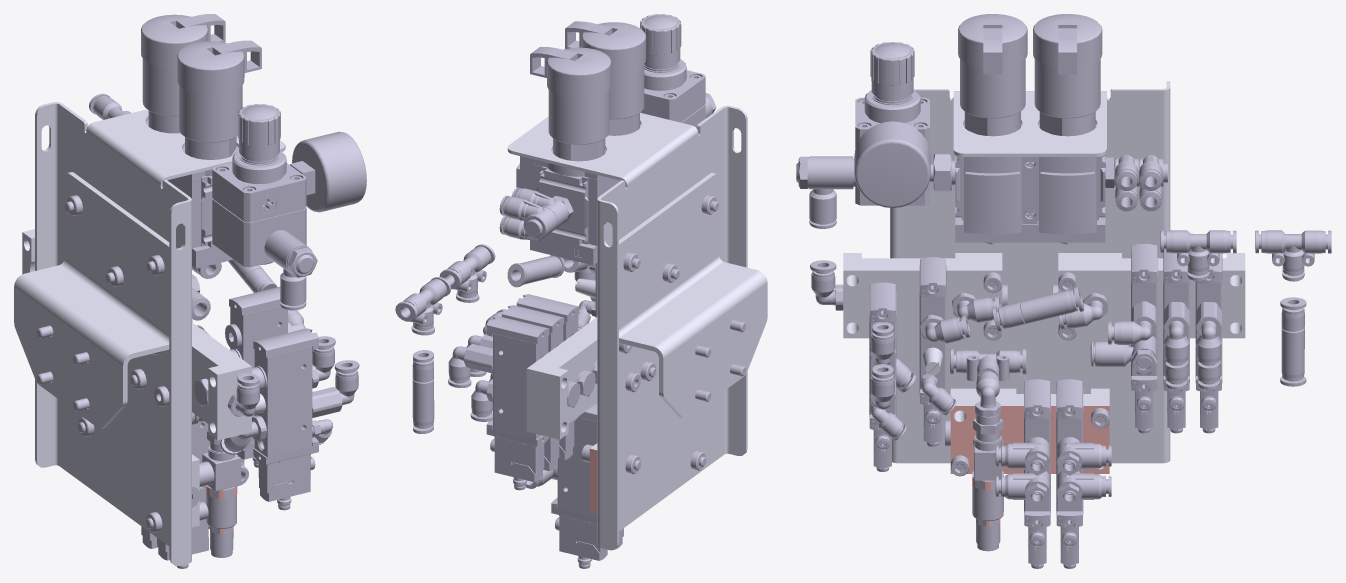
File: Kappgregate.glb
3 renders of one model, left to right at view 1: azimuth 30°, elevation 25°; view 2: azimuth 150°, elevation 25°; view 3: azimuth 270°, elevation 25°, orthographic. The views are drawn at different scales.
Visible parts, largest first — view 1: CATSHM_FeatForTopoStorage.67, MechanicalTool.1 (×7), CATSHM_FeatForTopoStorage.47, 228\81\72\71\MANIFOLD_SOLID_BREP #1310250 (×2), 1, MechanicalTool.4 (×4), MechanicalTool.3 (×2), Hauptkörper (×2), MANIFOLD_SOLID_BREP #3630; view 2: CATSHM_FeatForTopoStorage.67, CATSHM_FeatForTopoStorage.47, MechanicalTool.1 (×6), 228\81\72\71\MANIFOLD_SOLID_BREP #1310250 (×2), Hauptkörper, MechanicalTool.4 (×3), MANIFOLD_SOLID_BREP #3630 (×2), _153233 QSLV4-1/4-6, MechanicalTool.3; view 3: MechanicalTool.1 (×17), CATSHM_FeatForTopoStorage.67, 228\81\72\71\MANIFOLD_SOLID_BREP #1310250 (×2), MechanicalTool.4 (×9), Hauptkörper (×2), MechanicalTool.3 (×5), MANIFOLD_SOLID_BREP #2903 (×4), 1, MANIFOLD_SOLID_BREP #3630 (×2), _153233 QSLV4-1/4-6.
Part boxes in pixels (<box>): CATSHM_FeatForTopoStorage.67: <box>35,102,285,565</box>; MechanicalTool.1 (×7): <box>157,104,318,568</box>; CATSHM_FeatForTopoStorage.47: <box>14,172,169,428</box>; 228\81\72\71\MANIFOLD_SOLID_BREP #1310250 (×2): <box>141,14,261,268</box>; 1: <box>290,131,366,212</box>; MechanicalTool.4 (×4): <box>89,93,335,454</box>; MechanicalTool.3 (×2): <box>199,360,359,491</box>; Hauptkörper (×2): <box>22,229,237,557</box>; MANIFOLD_SOLID_BREP #3630: <box>228,259,277,292</box>; CATSHM_FeatForTopoStorage.67: <box>507,105,747,550</box>; CATSHM_FeatForTopoStorage.47: <box>619,172,767,418</box>; MechanicalTool.1 (×6): <box>486,14,705,568</box>; 228\81\72\71\MANIFOLD_SOLID_BREP #1310250 (×2): <box>516,21,646,265</box>; Hauptkörper: <box>526,317,597,439</box>; MechanicalTool.4 (×3): <box>395,244,495,421</box>; MANIFOLD_SOLID_BREP #3630 (×2): <box>412,255,564,434</box>; _153233 QSLV4-1/4-6: <box>499,187,573,240</box>; MechanicalTool.3: <box>448,344,492,387</box>; MechanicalTool.1 (×17): <box>796,42,1222,568</box>; CATSHM_FeatForTopoStorage.67: <box>890,81,1170,463</box>; 228\81\72\71\MANIFOLD_SOLID_BREP #1310250 (×2): <box>955,14,1105,244</box>; MechanicalTool.4 (×9): <box>810,230,1331,416</box>; Hauptkörper (×2): <box>972,253,1245,551</box>; MechanicalTool.3 (×5): <box>870,301,1221,480</box>; MANIFOLD_SOLID_BREP #2903 (×4): <box>995,437,1111,506</box>; 1: <box>854,121,930,207</box>; MANIFOLD_SOLID_BREP #3630 (×2): <box>992,286,1306,386</box>; _153233 QSLV4-1/4-6: <box>1105,155,1167,211</box>.
Size of the model in its own units: 0.1461 by 0.3215 by 0.2863.
